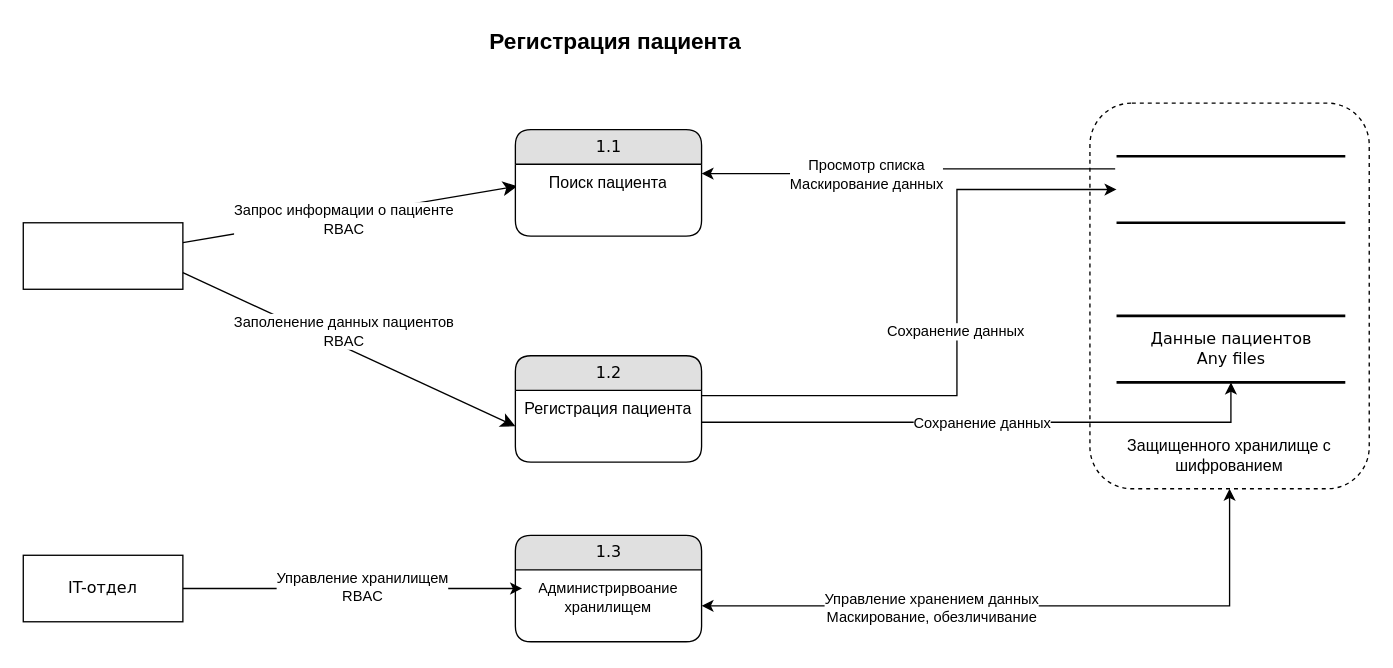
Image size: 1393x668. Some labels were removed from this diagram. The box of each missing label's shape, as (x1, y1, x2, y2) in pixels:
Ресепшен: (22, 221, 183, 289)
Список пациентов Excel file: (1115, 154, 1346, 223)
